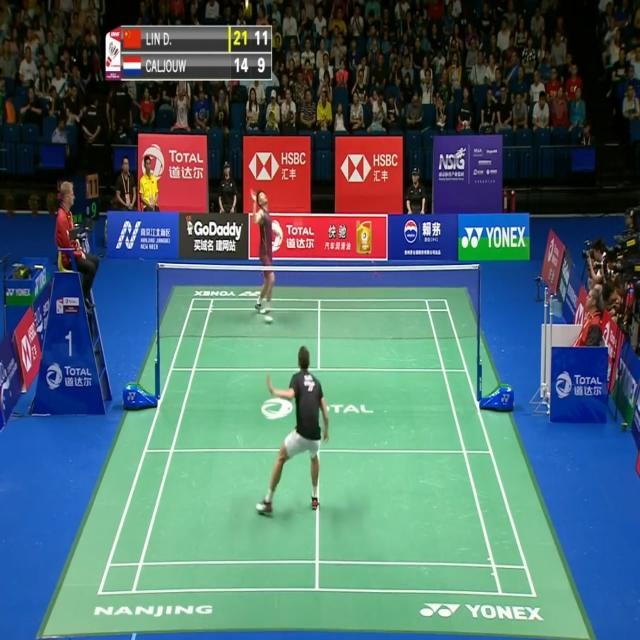Player1: (253, 339, 332, 529)
Player2: (246, 178, 282, 330)
